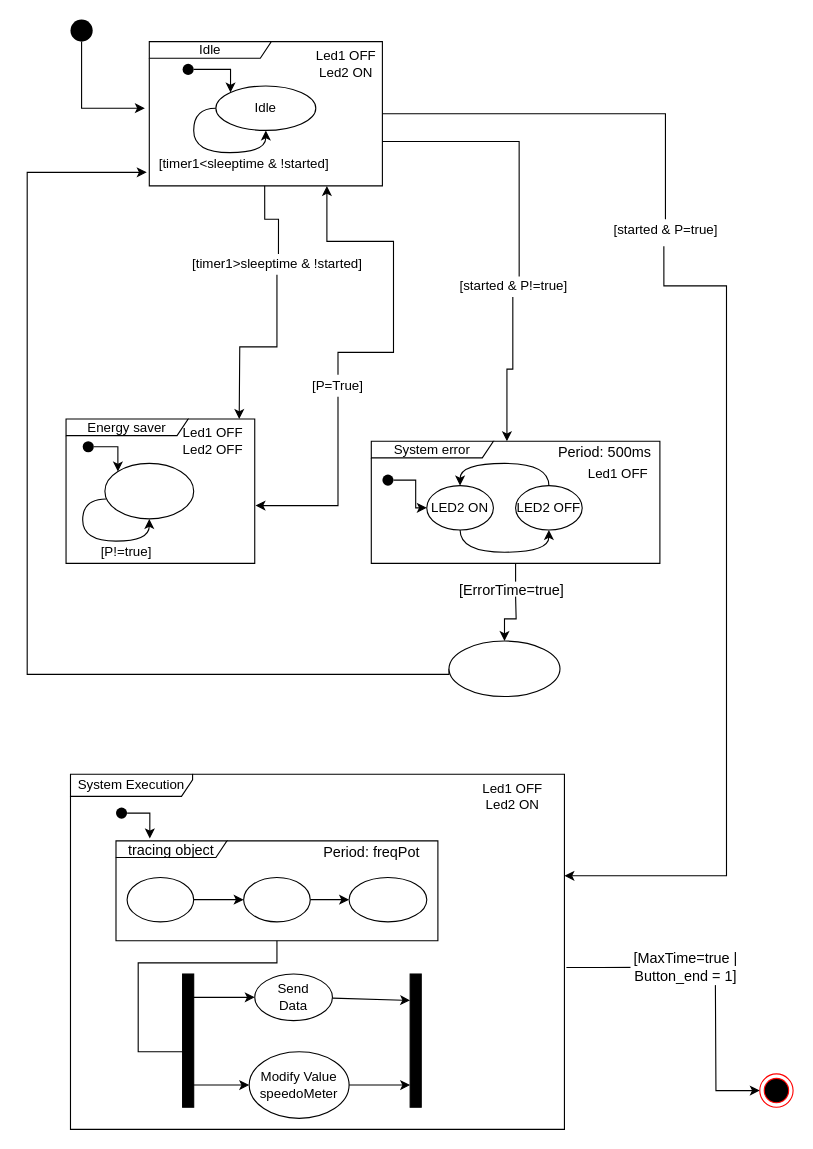
Some shapes in this 813 by 1149 pixel diagram are drawn without their labels. The centre of each missing label's shape, as x and y in pixels:
acceleration: point (387, 899)
position: point (160, 899)
PowerMode state: point (149, 490)
Send messageError: point (504, 668)
speed: point (276, 899)
